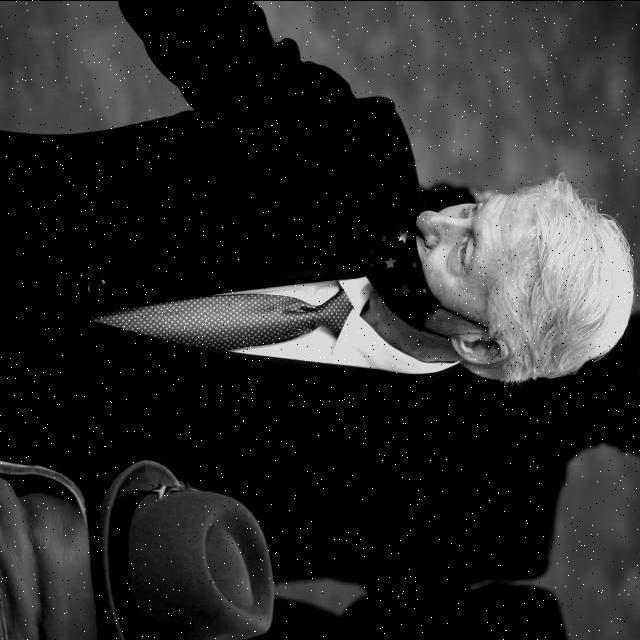mask: (368, 214, 418, 314)
no_gloves: (521, 182, 628, 374)
